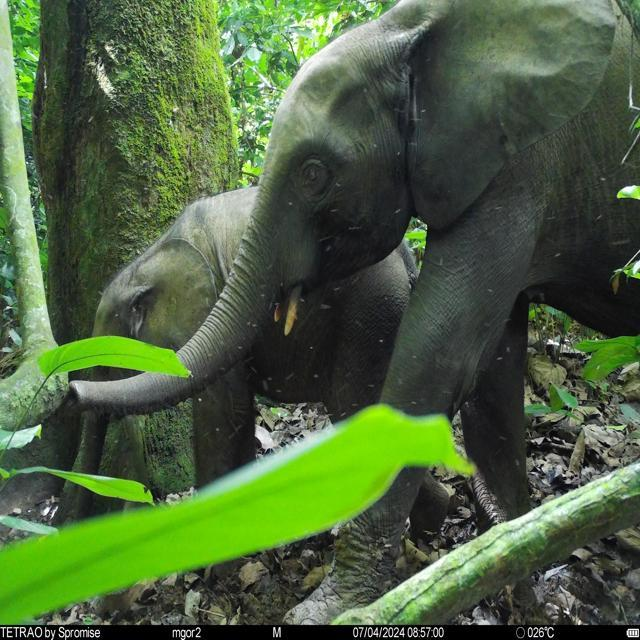calf: (66, 186, 454, 580)
ear: (408, 1, 620, 226), (140, 239, 220, 376)
elephant: (67, 0, 640, 626)
tusk: (282, 282, 303, 340), (271, 303, 282, 325)
